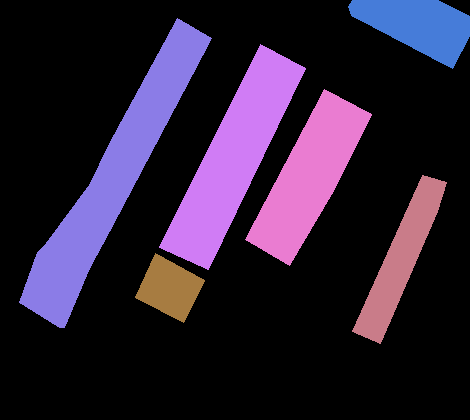parkingspot: (19, 18, 211, 327), (159, 44, 305, 269), (245, 89, 371, 265), (352, 175, 446, 343), (348, 0, 470, 68), (135, 253, 204, 322)
